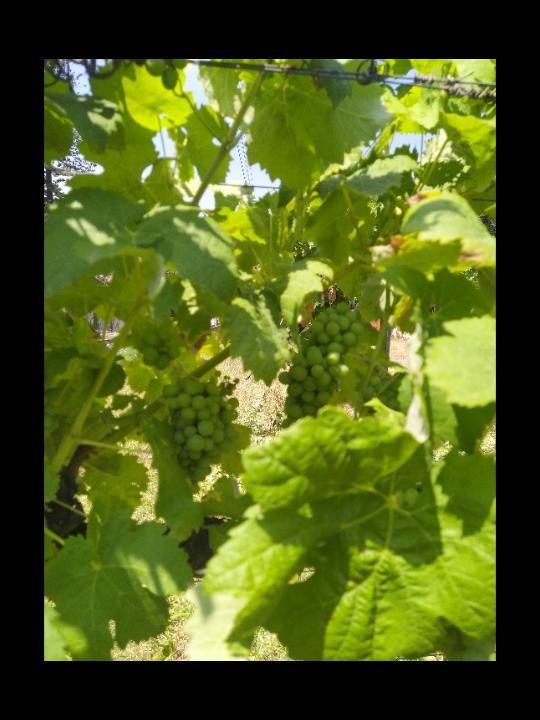grape: (276, 301, 366, 430), (160, 375, 241, 482)
